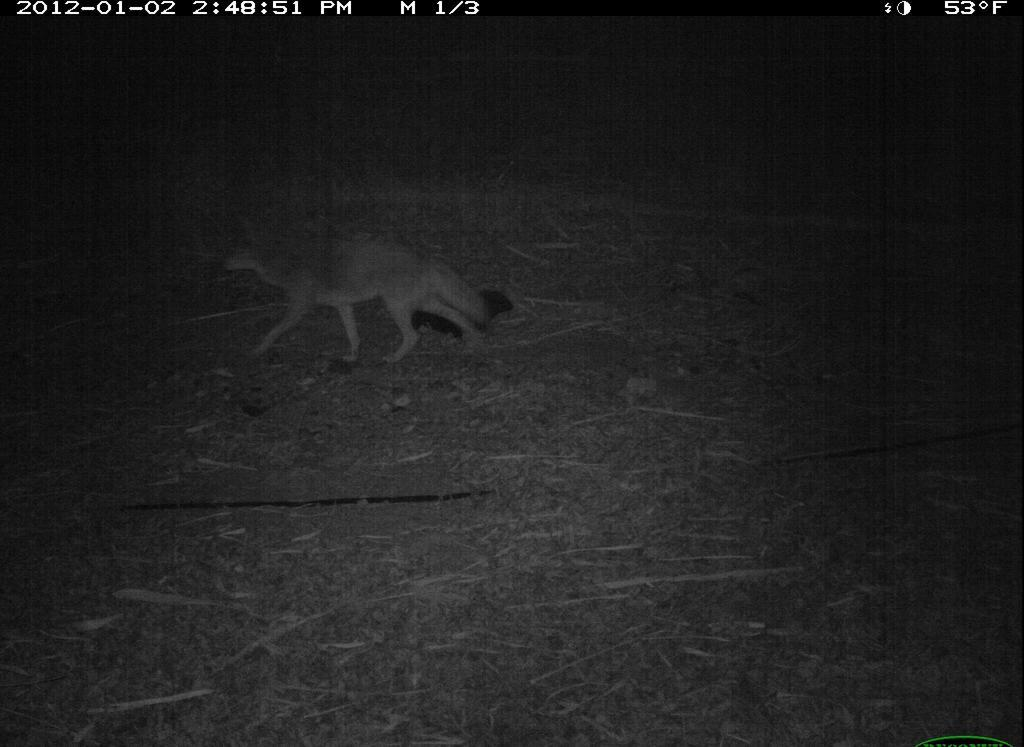coyote: (199, 203, 518, 379)
